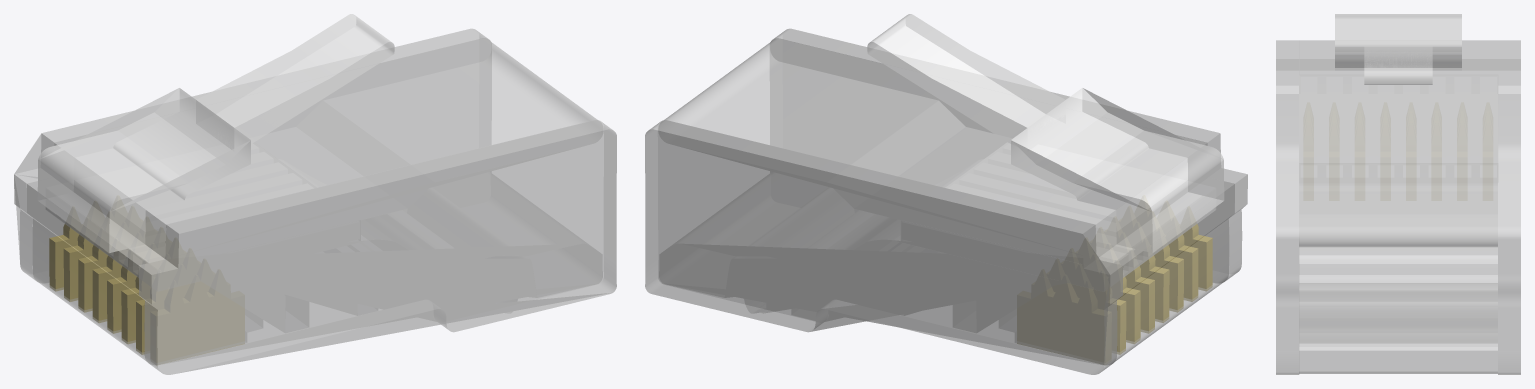
File: RJ45-Prefab.fbx
3 renders of one model, left to right at view 1: azimuth 30°, elevation 25°; view 2: azimuth 150°, elevation 25°; view 3: azimuth 270°, elevation 25°, orthographic. The views are drawn at different scales.
Parts seen in each view (by area): view 1: body, click, knifes; view 2: body, click, knifes; view 3: body, click.
Boxes of the visible parts, x1,y1,x2,y2 form: body: (14, 28, 616, 374); click: (37, 14, 394, 252); knifes: (49, 224, 244, 362); body: (645, 28, 1247, 374); click: (867, 14, 1224, 252); knifes: (1017, 224, 1212, 362); body: (1276, 40, 1520, 374); click: (1335, 14, 1461, 84).
Bounding box in the file's own units: 2.33 × 1.24 × 1.17.
